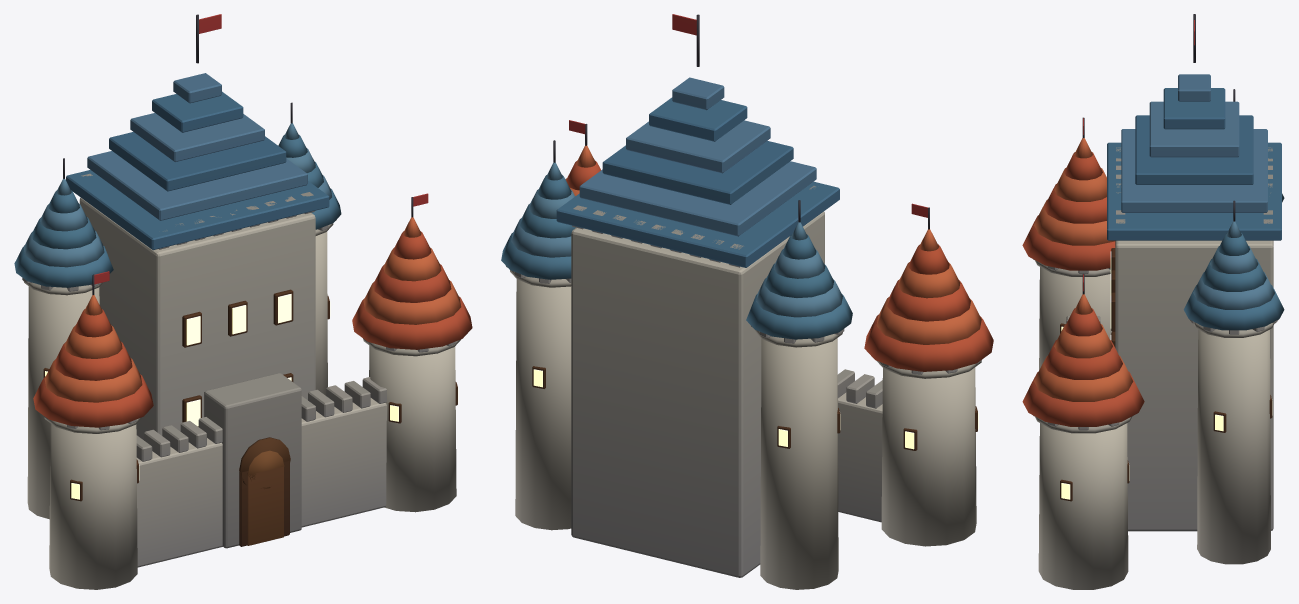
The model's file is castle.glb.
The picture shows the model from 3 angles, left to right: view 1: azimuth 30°, elevation 25°; view 2: azimuth 150°, elevation 25°; view 3: azimuth 270°, elevation 25°; orthographic projection. The views are drawn at different scales.
Visible parts, largest first — view 1: castle; view 2: castle; view 3: castle.
Part boxes in pixels (bbox=[...]): castle: bbox=[14, 14, 472, 589]; castle: bbox=[501, 14, 993, 589]; castle: bbox=[1022, 14, 1284, 589].
Bounding box in the file's own units: 18.51 × 20 × 9.93.
